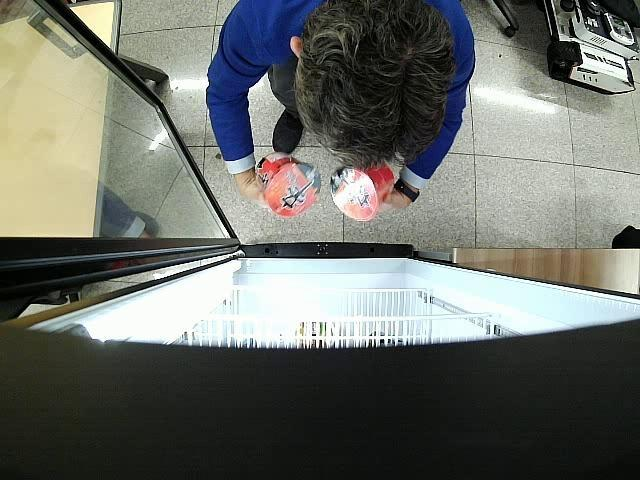01_ShinRamen_L: (256, 152, 322, 218), (330, 161, 394, 221)
